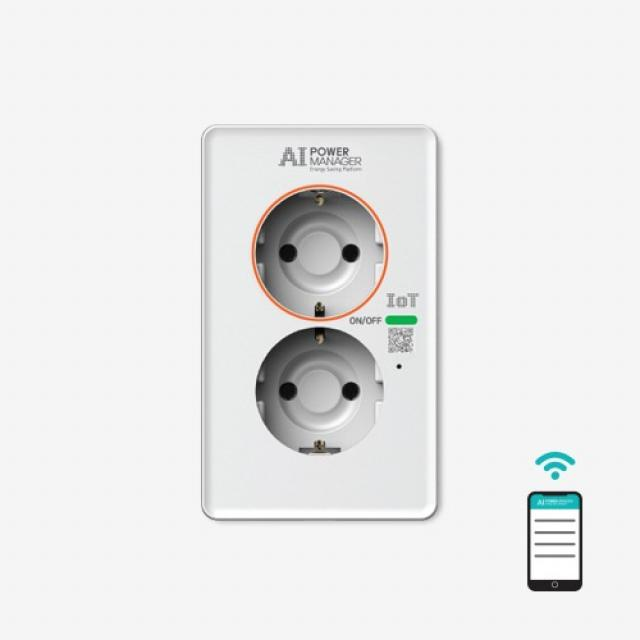typeb: (178, 97, 476, 544)
